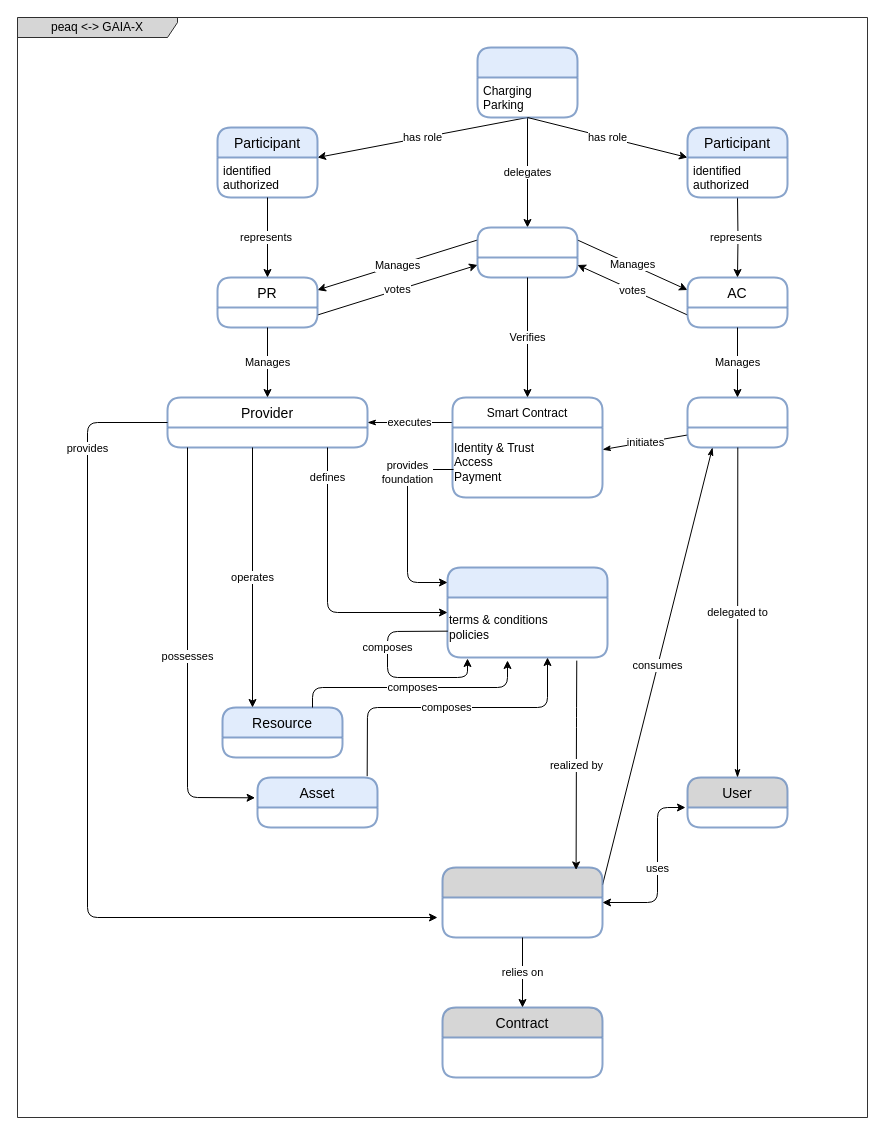
This 885x1135 diagram has some shape labels left out. The box of each missing label's shape, as (x1, y1, x2, y2) in pixels:
Consumers: (686, 396, 788, 448)
Field: (476, 46, 578, 118)
root: (476, 226, 578, 278)
Service Instance: (441, 866, 603, 938)
Service Offering: (446, 566, 608, 658)
